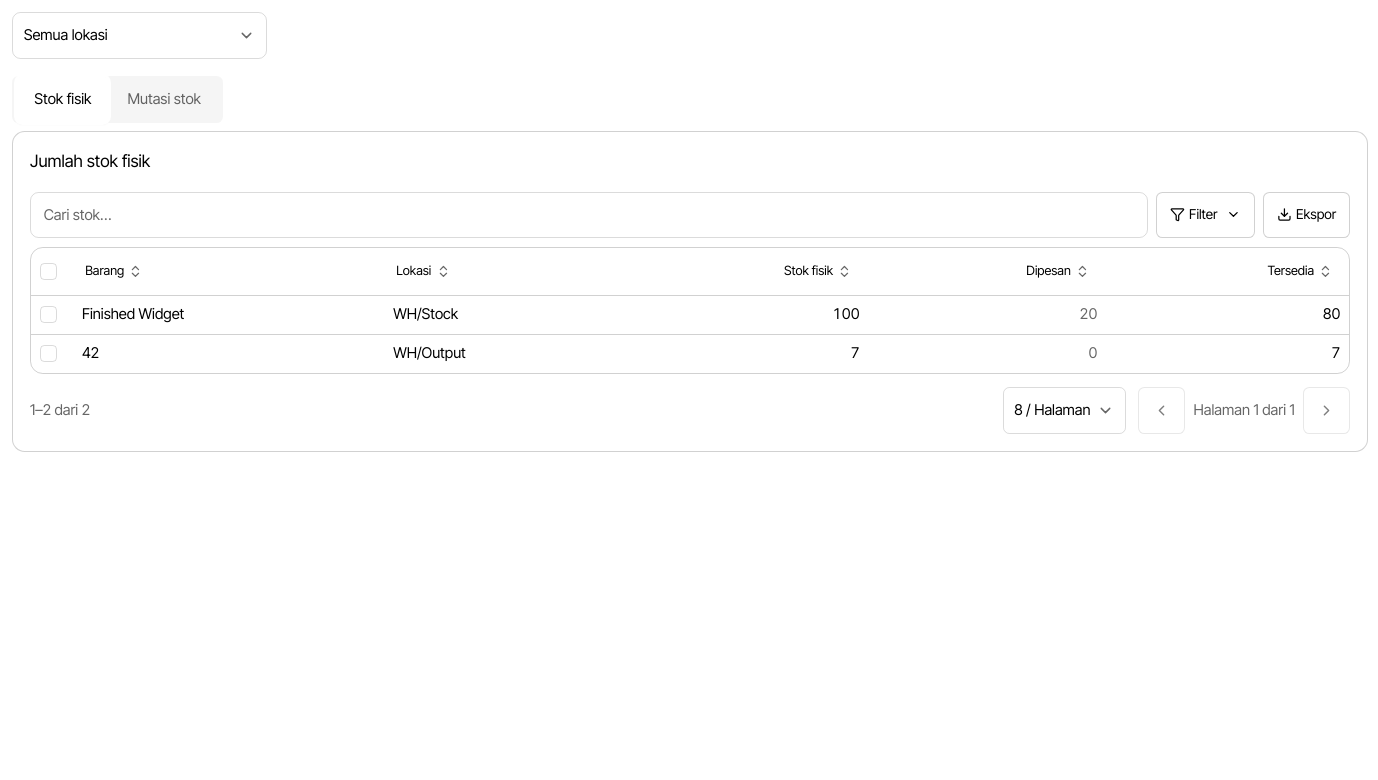
Scenario: StockOverviewSection branches › renders move states with fallbacks
Expected: the text "Finished Widget" is shown, [74,295,385,334]
Click the tab "Mutasi stok".
click(164, 99)  # box [110,76,219,123]
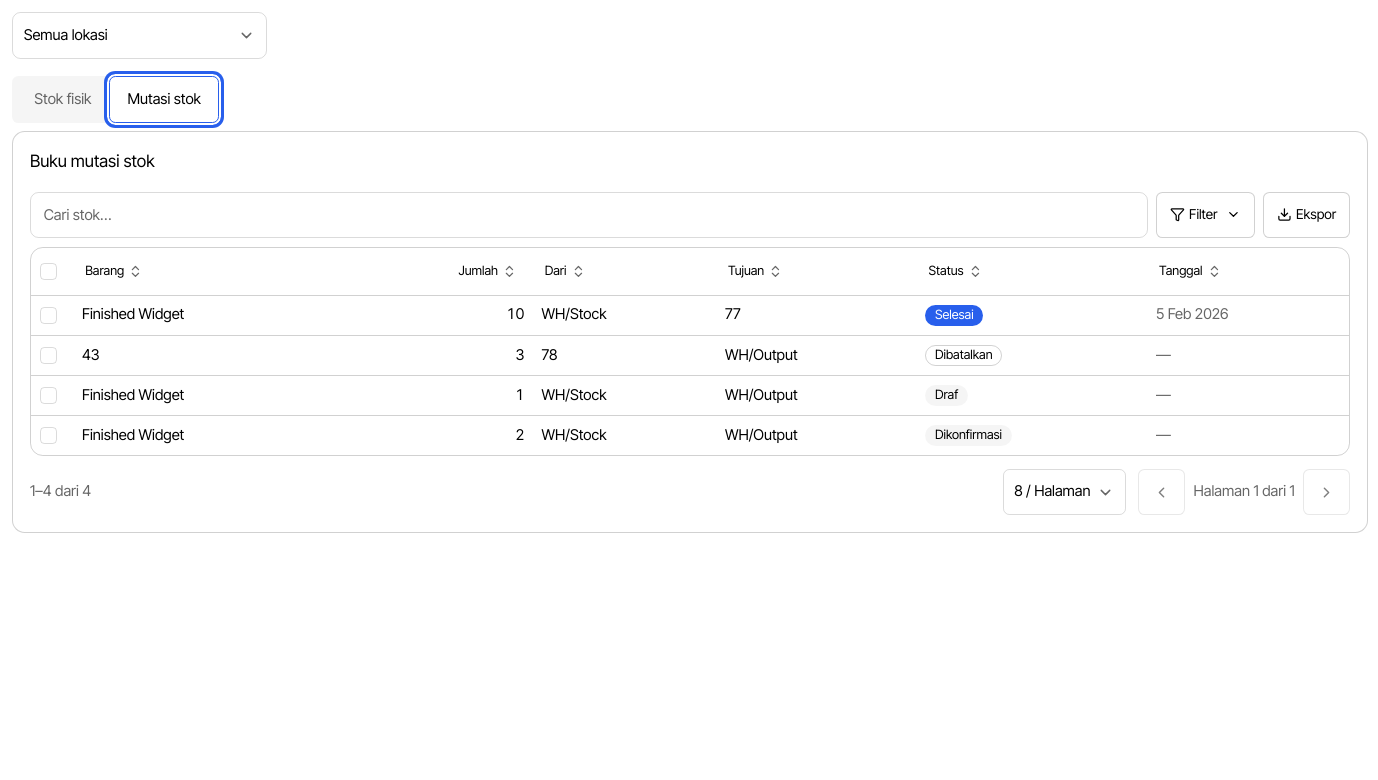
Result: the text "Buku mutasi stok" is shown at [30,151,155,171]
Result: the icon "Selesai" is shown at [925,305,983,326]
Result: the button "Dibatalkan" is shown at [925,345,1002,366]
